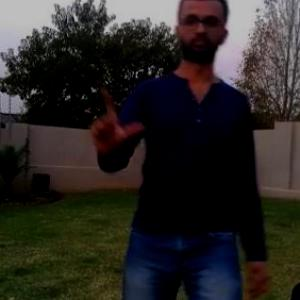land_hand: (82, 77, 141, 164)
